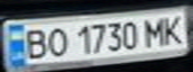0: (118, 18, 142, 51)
1: (72, 21, 93, 55)
3: (106, 20, 127, 52)
7: (87, 20, 109, 54)
B: (18, 26, 51, 61)
K: (157, 11, 190, 45)
M: (139, 15, 172, 47)
O: (42, 25, 69, 57)
